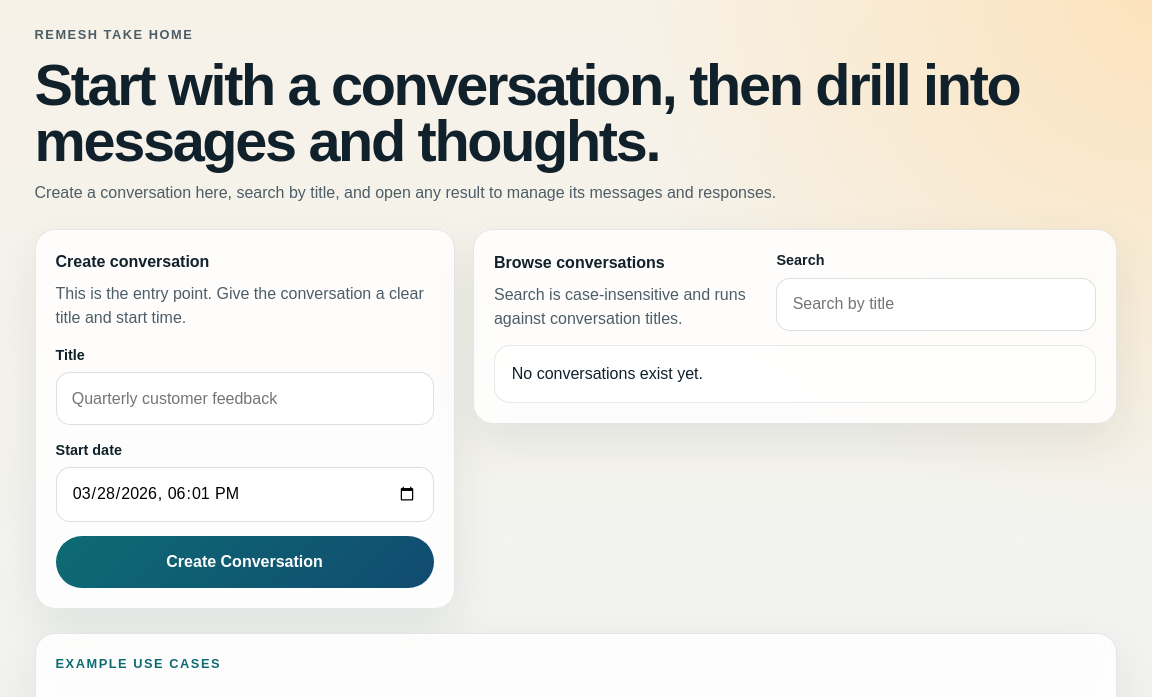
Scenario: ConversationsPage › submits a conversation form and reloads data
In the field labelled "Title": point(244, 399) x1=56 y1=372 x2=434 y2=425, type "Town Hall"
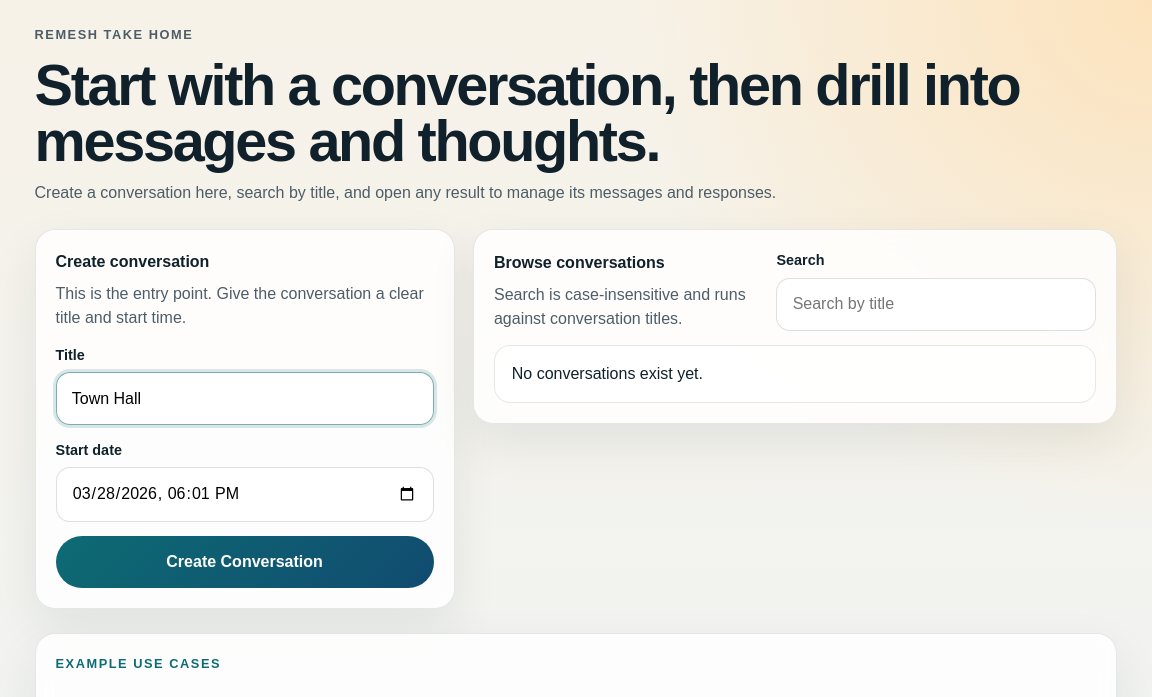
Click the button "Create Conversation": point(244, 562) x1=56 y1=536 x2=434 y2=588
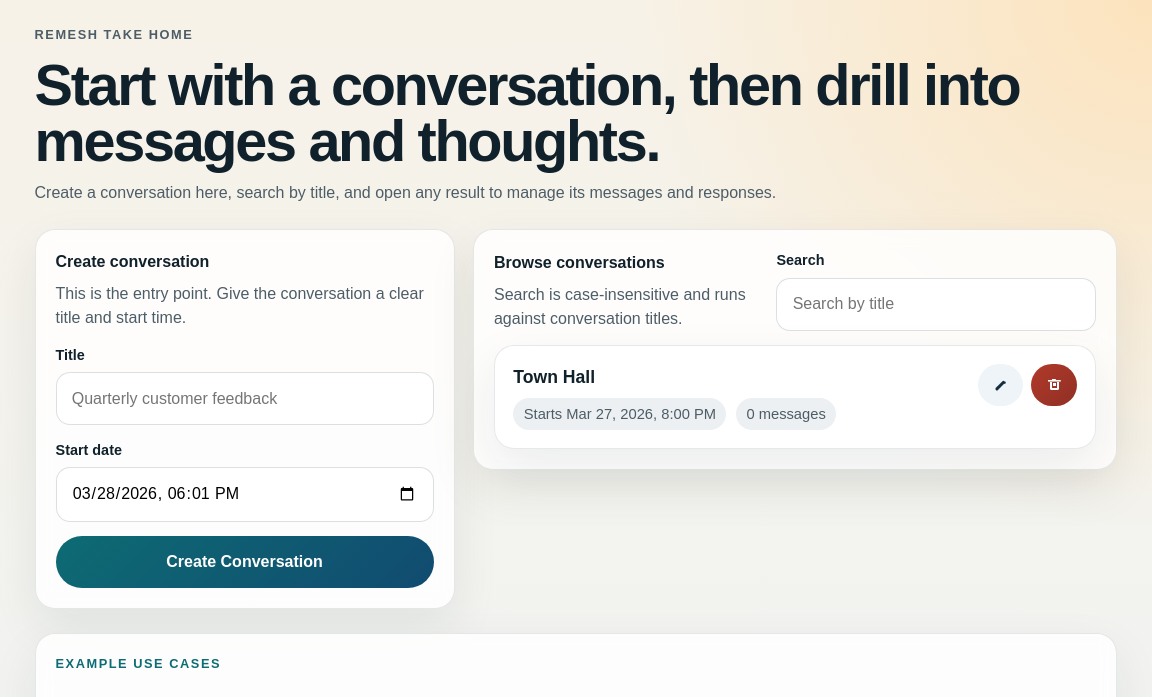
Expected: the heading "Town Hall" is shown, x1=513 y1=367 x2=595 y2=387
